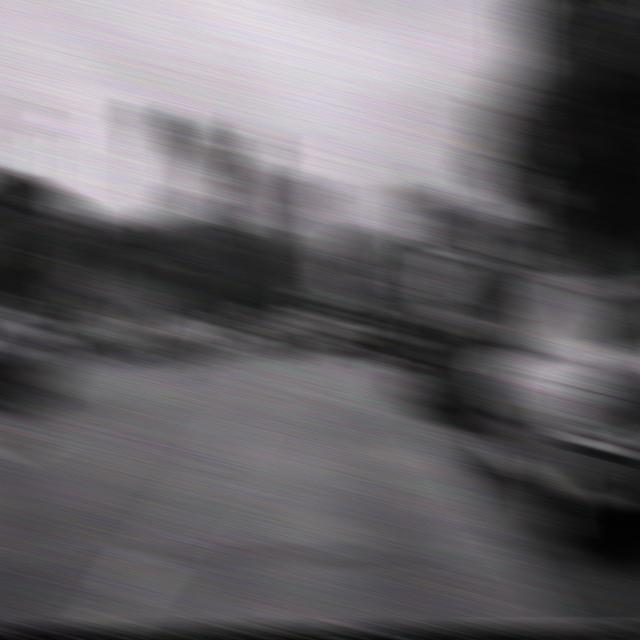speedLimit35: (495, 103, 543, 168), (156, 210, 193, 253)
